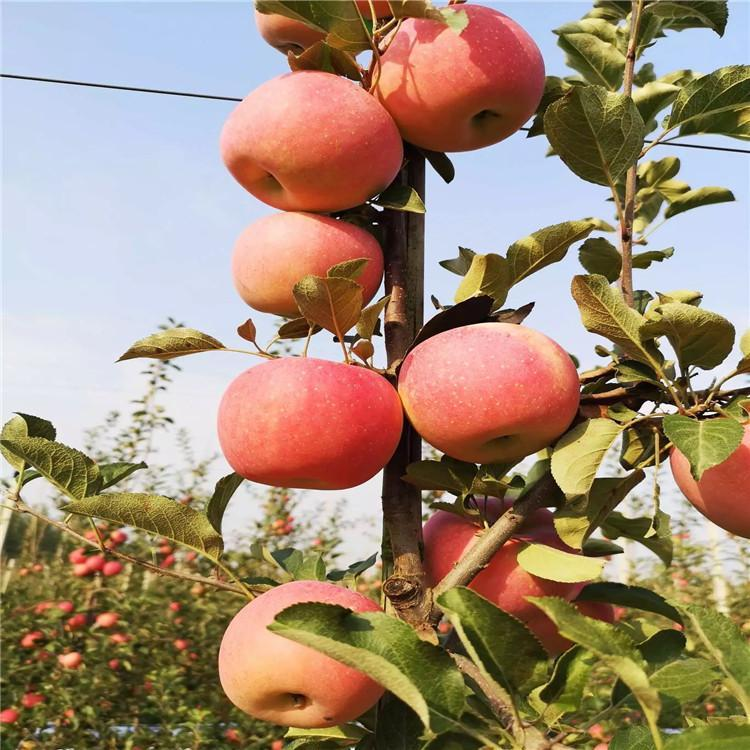apple: (413, 504, 612, 660), (214, 582, 401, 730), (395, 317, 578, 468), (372, 2, 548, 154), (221, 68, 405, 213), (214, 355, 403, 496), (227, 212, 384, 321)
